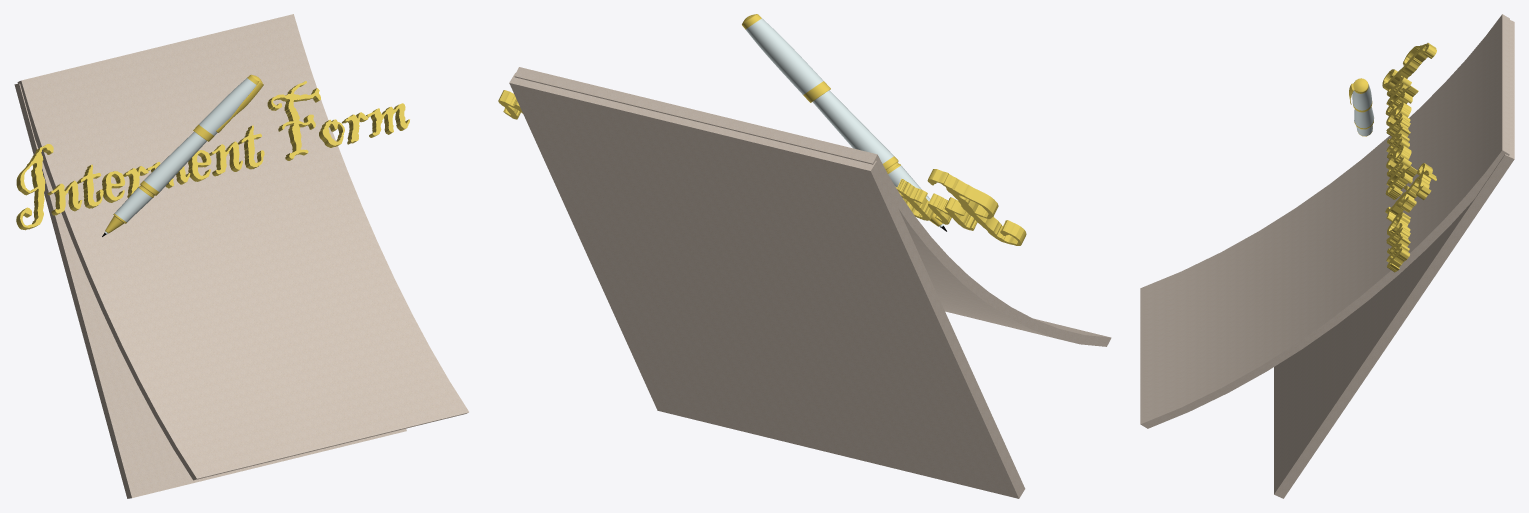
The model's file is Intermentformlight.gltf.
3 views of the same model, side by side, from view 1: azimuth 30°, elevation 25°; view 2: azimuth 150°, elevation 25°; view 3: azimuth 270°, elevation 25° (orthographic). The views are drawn at different scales.
Visible parts, largest first — view 1: BézierCurve, Plane.001, Text, pen_lid_Cylinder.001; view 2: Plane.001, BézierCurve, pen_lid_Cylinder.001, Text; view 3: BézierCurve, Plane.001, Text, pen_lid_Cylinder.001.
Part boxes in pixels (bbox=[...]): BézierCurve: bbox=[17, 14, 468, 480]; Plane.001: bbox=[14, 83, 406, 498]; Text: bbox=[16, 81, 409, 230]; pen_lid_Cylinder.001: bbox=[102, 74, 263, 236]; Plane.001: bbox=[509, 73, 1025, 498]; BézierCurve: bbox=[514, 67, 1111, 346]; pen_lid_Cylinder.001: bbox=[742, 14, 946, 231]; Text: bbox=[498, 90, 1026, 245]; BézierCurve: bbox=[1140, 14, 1509, 428]; Plane.001: bbox=[1274, 20, 1514, 498]; Text: bbox=[1382, 43, 1436, 272]; pen_lid_Cylinder.001: bbox=[1349, 78, 1373, 136].
Size of the model in its own units: 2.85 by 2.47 by 2.3.
6 materials, 2 textured.
